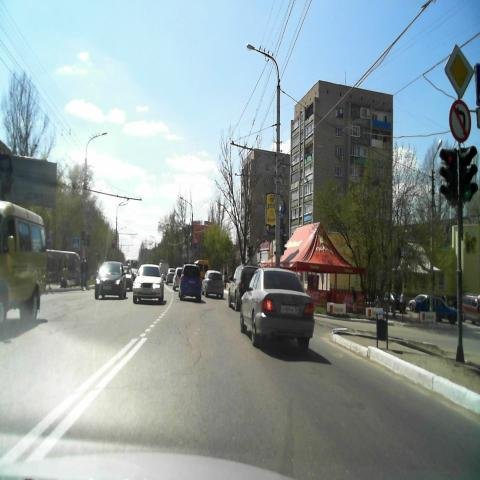3_18_2: (449, 99, 472, 143)
